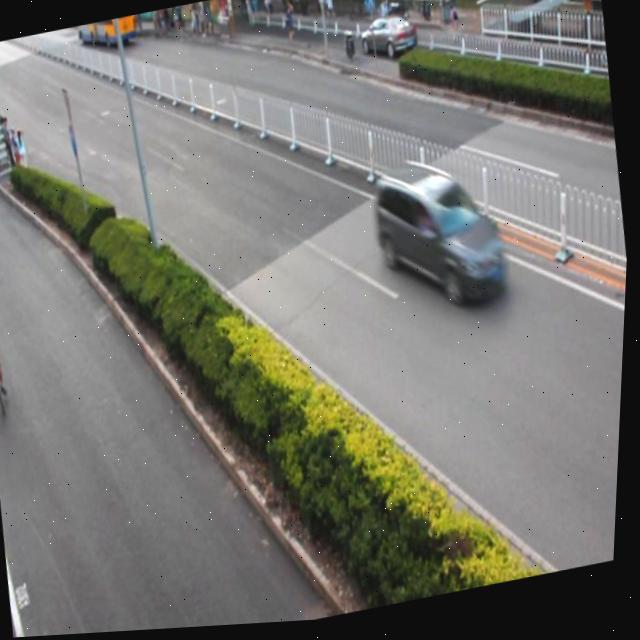car: (367, 153, 516, 327), (355, 14, 421, 72)
